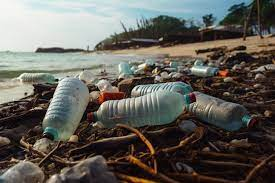plastic_bottle: (94, 89, 198, 127), (189, 88, 262, 137), (43, 75, 95, 142), (131, 79, 194, 100), (188, 62, 225, 79), (19, 70, 59, 85), (113, 58, 135, 79), (78, 66, 98, 86)
